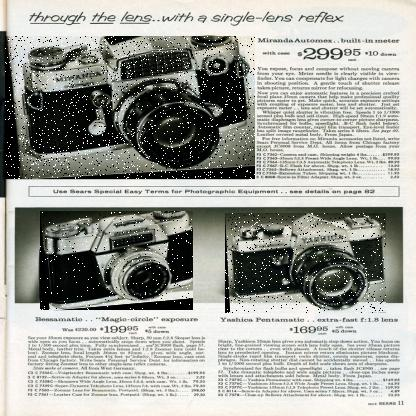Camera: (6, 38, 257, 182), (226, 214, 388, 315), (41, 212, 195, 312)
